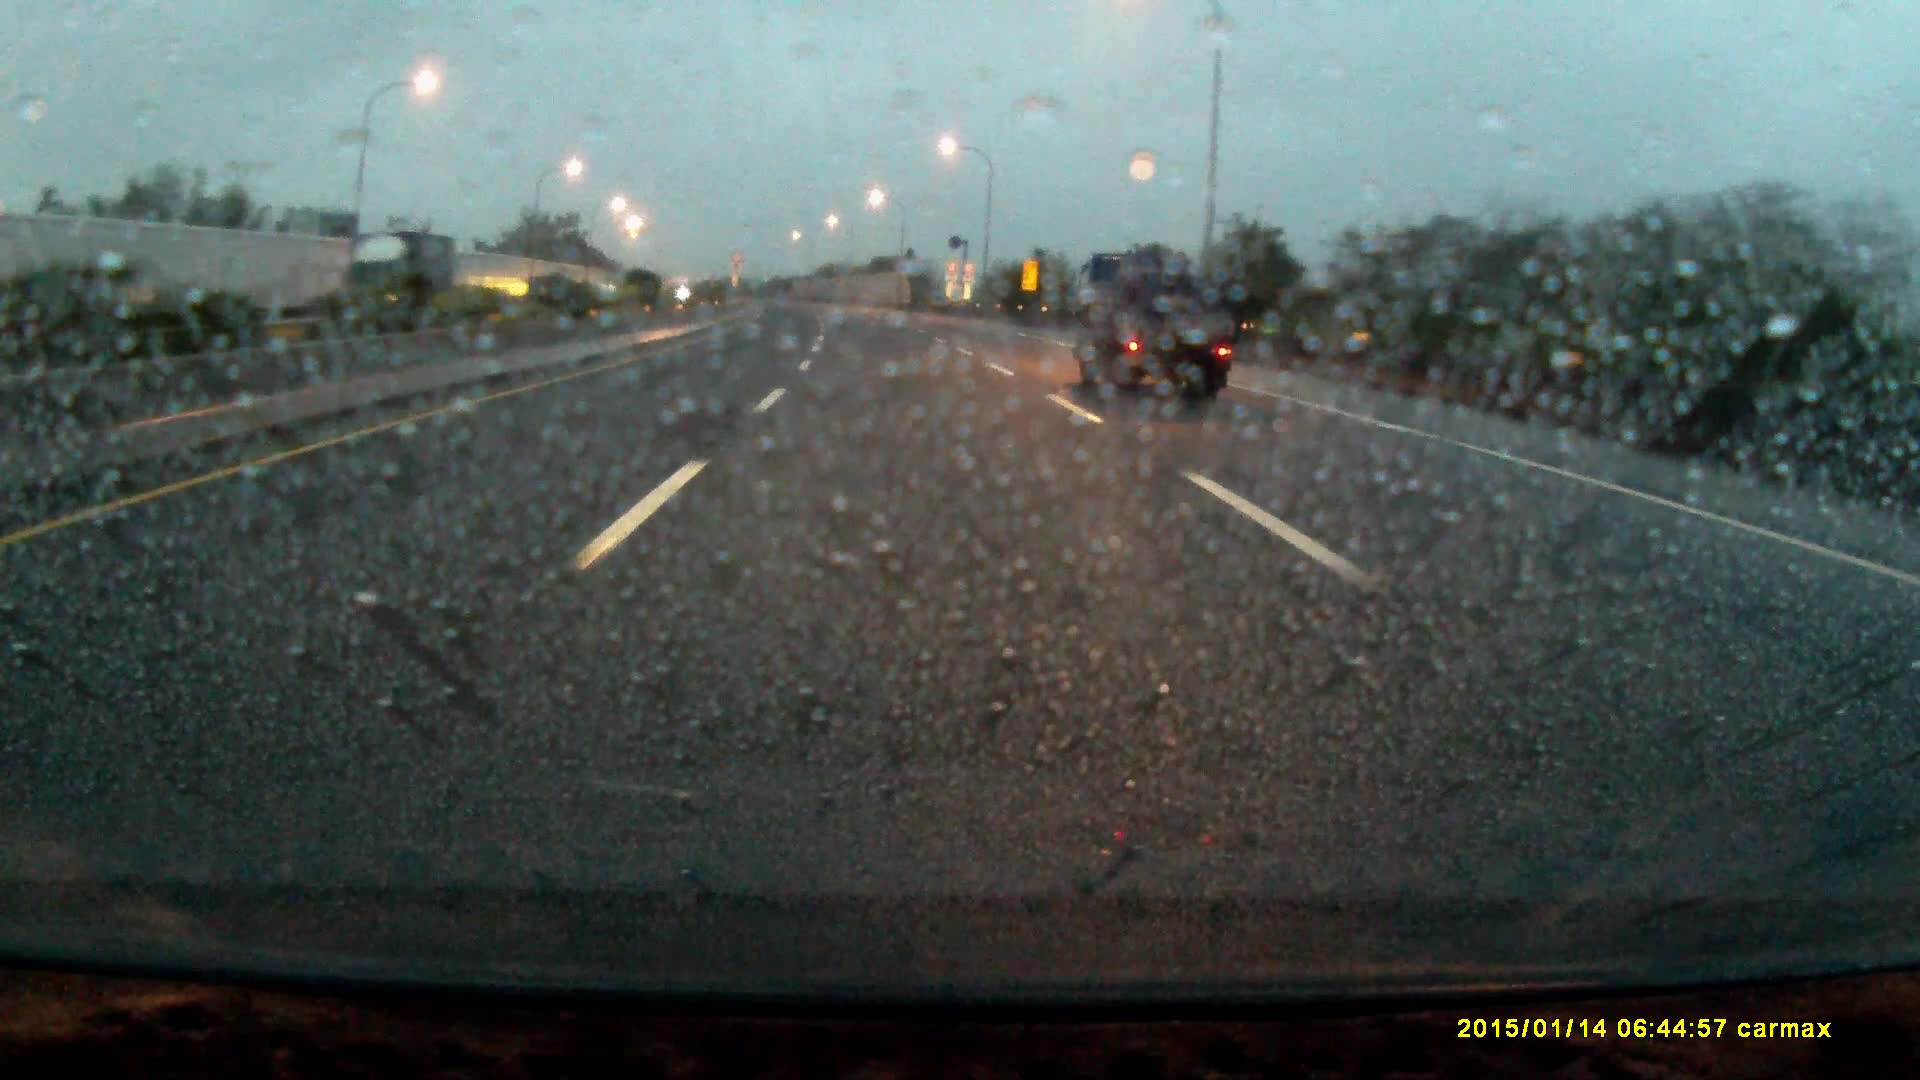vehicle: (1068, 249, 1228, 405), (342, 229, 456, 331)
